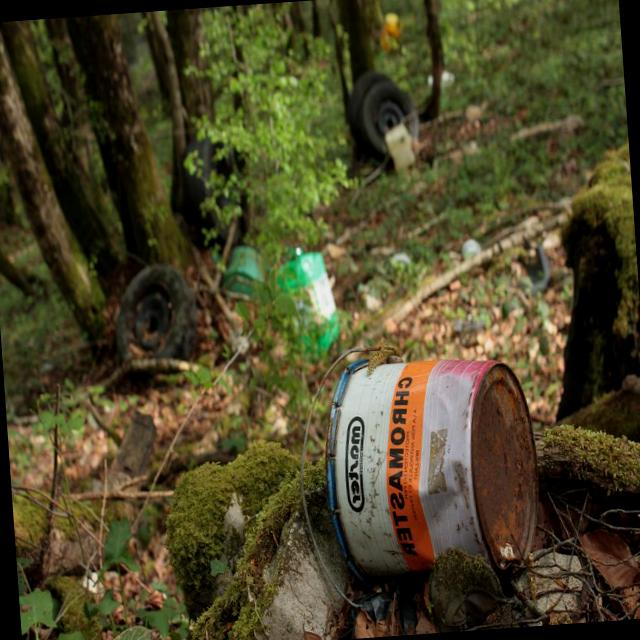garbage: (276, 326, 562, 594)
